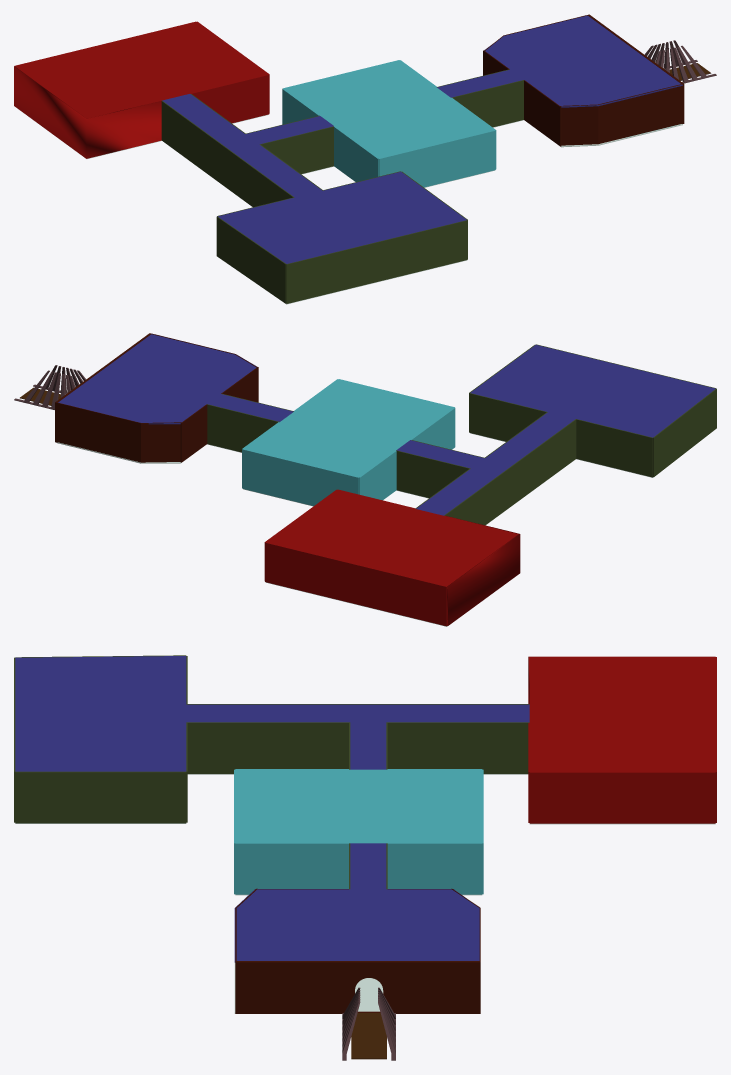
File: curaduria.glb
The picture shows the model from 3 angles, top to bottom: view 1: azimuth 30°, elevation 25°; view 2: azimuth 150°, elevation 25°; view 3: azimuth 270°, elevation 25°; orthographic projection. The views are drawn at different scales.
Visible parts, largest first — view 1: Plano.001, Plano.002, Plano.011, Plano.006, Plano.005, Plano.009, Plano.008, Cubo.002, Plano.003, Cubo.001; view 2: Plano.002, Plano.001, Plano.011, Plano.006, Plano.009, Plano.005, Plano.008, Cubo.002, Plano.003, Cubo.001; view 3: Plano.002, Plano.001, Plano.011, Plano.006, Plano.005, Cubo.002, Plano.008, Plano.009, Cubo.001, Plano.004.
Boxes of the visible parts, x1,y1,x2,y2 form: Plano.001: (161, 69, 524, 303); Plano.002: (162, 69, 523, 263); Plano.011: (15, 22, 268, 118); Plano.006: (283, 60, 494, 158); Plano.005: (484, 15, 682, 107); Plano.009: (14, 21, 269, 158); Plano.008: (282, 60, 496, 187); Cubo.002: (484, 14, 684, 145); Plano.003: (483, 50, 561, 146); Cubo.001: (644, 40, 716, 83); Plano.002: (207, 345, 715, 515); Plano.001: (206, 344, 716, 525); Plano.011: (266, 490, 518, 586); Plano.006: (243, 379, 453, 477); Plano.009: (264, 489, 520, 626); Plano.005: (58, 334, 257, 424); Plano.008: (242, 379, 455, 505); Cubo.002: (55, 333, 257, 462); Plano.003: (180, 367, 258, 462); Cubo.001: (14, 365, 85, 409); Plano.002: (15, 656, 529, 889); Plano.001: (14, 655, 529, 889); Plano.011: (529, 657, 715, 771); Plano.006: (235, 769, 482, 843); Plano.005: (234, 889, 479, 962); Cubo.002: (235, 888, 480, 1013); Plano.008: (234, 769, 483, 894); Plano.009: (528, 656, 716, 823); Cubo.001: (342, 987, 395, 1060); Plano.004: (234, 963, 383, 1013).
Size of the model in its own units: 14.16 by 0.9803 by 11.89.
